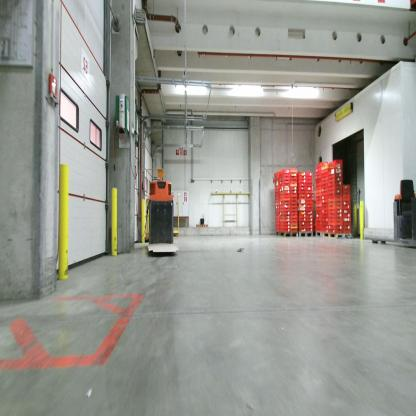pallet: (322, 231, 352, 239), (276, 231, 300, 240), (297, 230, 314, 239), (314, 231, 323, 237)
pallet_truck: (361, 178, 416, 247), (142, 175, 178, 263)
